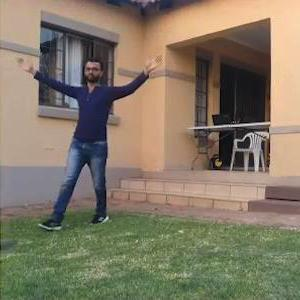takeoff: (31, 61, 175, 223)
